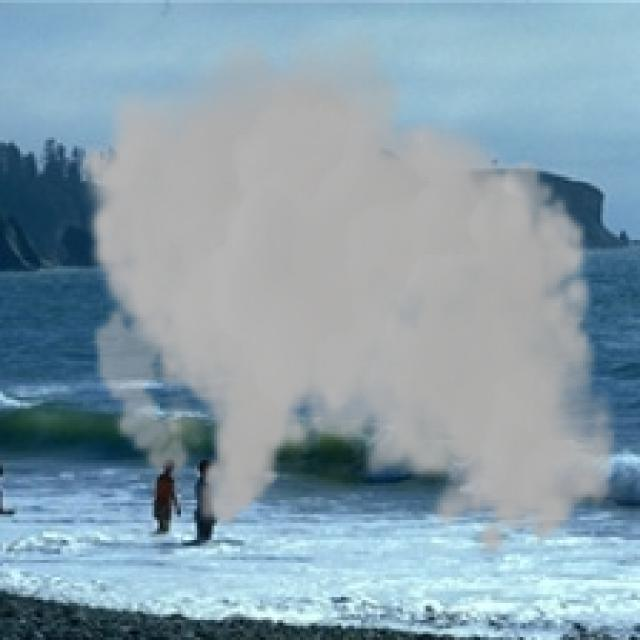smoke: (74, 17, 620, 563)
